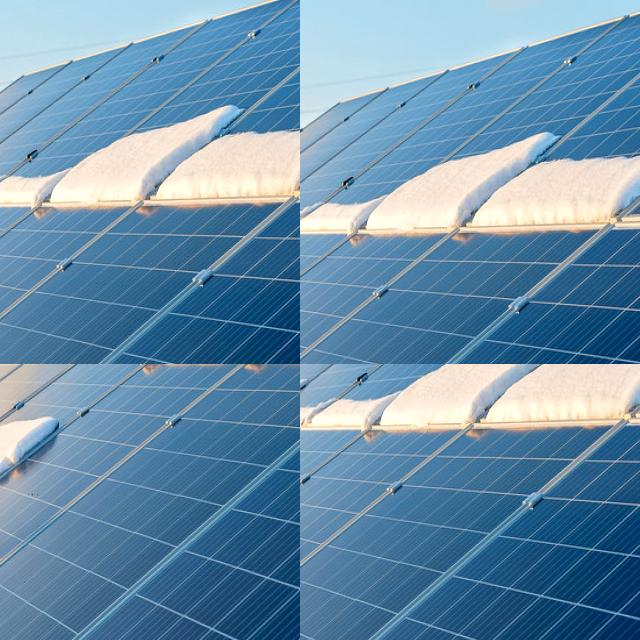crack: (0, 364, 148, 464), (0, 364, 128, 427), (0, 364, 139, 399)
dust: (113, 66, 300, 364), (0, 19, 140, 364)
panel: (400, 364, 640, 452), (300, 373, 391, 485), (300, 470, 382, 568), (300, 371, 376, 450), (300, 587, 350, 639)
